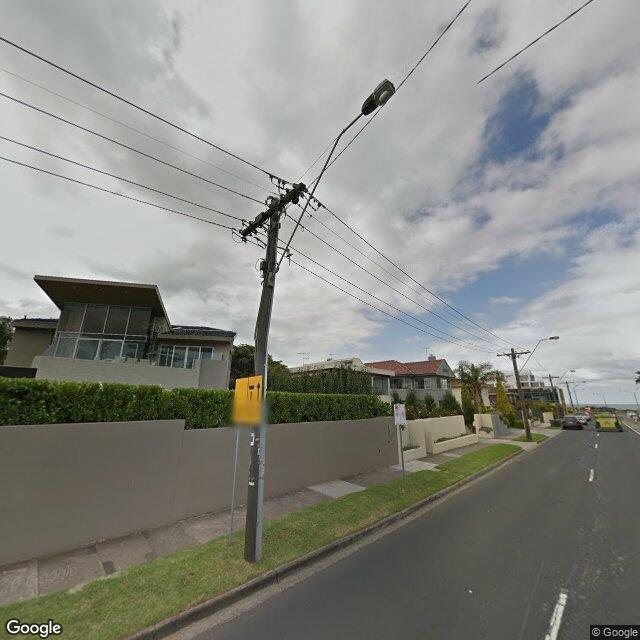crossarm: (232, 173, 324, 244), (496, 349, 531, 356), (542, 376, 560, 379), (558, 382, 574, 384)
streetlight: (274, 79, 396, 276), (518, 336, 560, 372), (554, 369, 576, 384)
timber-pole: (243, 198, 280, 562), (511, 348, 532, 439), (566, 380, 573, 406), (549, 374, 553, 386)
